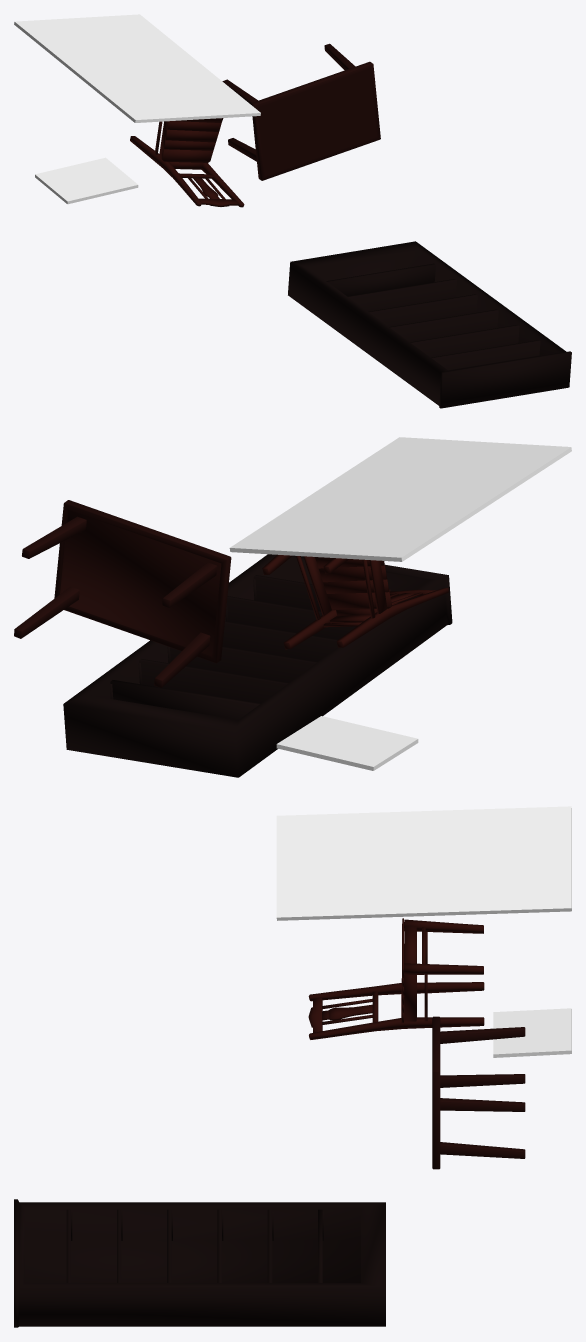
3 renders of one model, top to bottom at view 1: azimuth 30°, elevation 25°; view 2: azimuth 150°, elevation 25°; view 3: azimuth 270°, elevation 25°, orthographic. The views are drawn at different scales.
Visible parts, largest first — view 1: diffuse_shelf_02, glass_door_01, diffuse_table_01, diffuse_chair_03, glass_partition_02; view 2: diffuse_shelf_02, glass_door_01, diffuse_table_01, diffuse_chair_03, glass_partition_02; view 3: diffuse_shelf_02, glass_door_01, diffuse_chair_03, diffuse_table_01, glass_partition_02.
Boxes of the visible parts, x1,y1,x2,y2 form: diffuse_shelf_02: [288, 241, 571, 408]; glass_door_01: [14, 14, 260, 122]; diffuse_table_01: [222, 43, 380, 180]; diffuse_chair_03: [130, 118, 244, 207]; glass_partition_02: [35, 157, 138, 204]; diffuse_shelf_02: [63, 554, 452, 777]; glass_door_01: [229, 437, 571, 561]; diffuse_table_01: [14, 500, 231, 687]; diffuse_chair_03: [262, 554, 448, 649]; glass_partition_02: [276, 716, 418, 770]; diffuse_shelf_02: [14, 1199, 385, 1327]; glass_door_01: [276, 806, 571, 920]; diffuse_chair_03: [308, 918, 484, 1039]; diffuse_table_01: [432, 1016, 525, 1169]; glass_partition_02: [493, 1008, 571, 1057].
Bounding box in the file's own units: 231 × 186 × 284.
